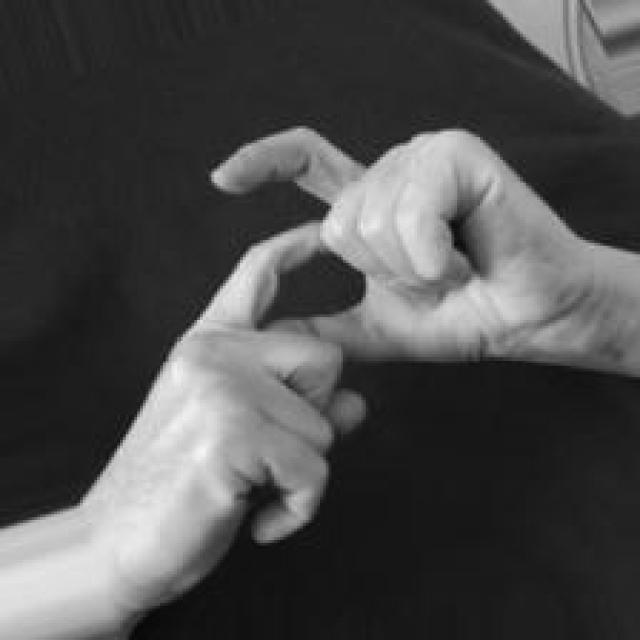G: (83, 122, 590, 640)
